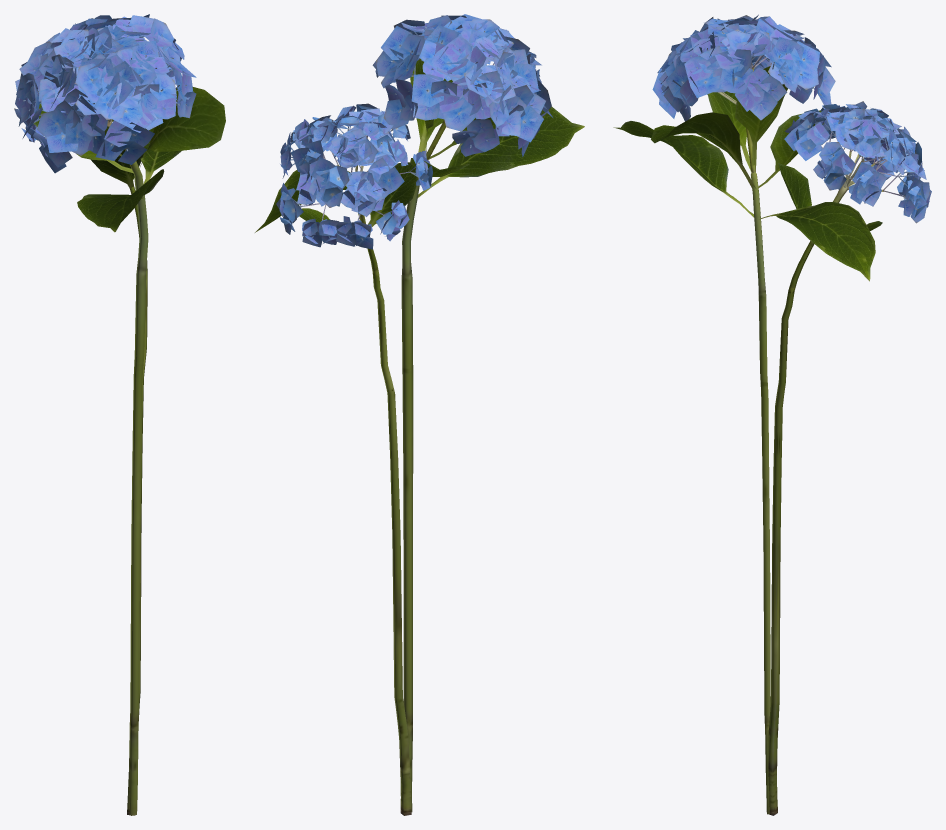
The model's file is Hydrangea_bush_long_deepblue.glb.
3 views of the same model, side by side, from view 1: azimuth 30°, elevation 25°; view 2: azimuth 150°, elevation 25°; view 3: azimuth 270°, elevation 25° (orthographic). The views are drawn at different scales.
Visible parts, largest first — view 1: BUSHEKK; view 2: BUSHEKK; view 3: BUSHEKK.
Boxes of the visible parts, box(x1,y1,x2,y2) form: BUSHEKK: box(14, 14, 225, 815); BUSHEKK: box(255, 14, 584, 815); BUSHEKK: box(613, 14, 931, 815).
Size of the model in its own units: 1.48 by 5.02 by 1.87.
Materials: 1 (1 with a texture image).
